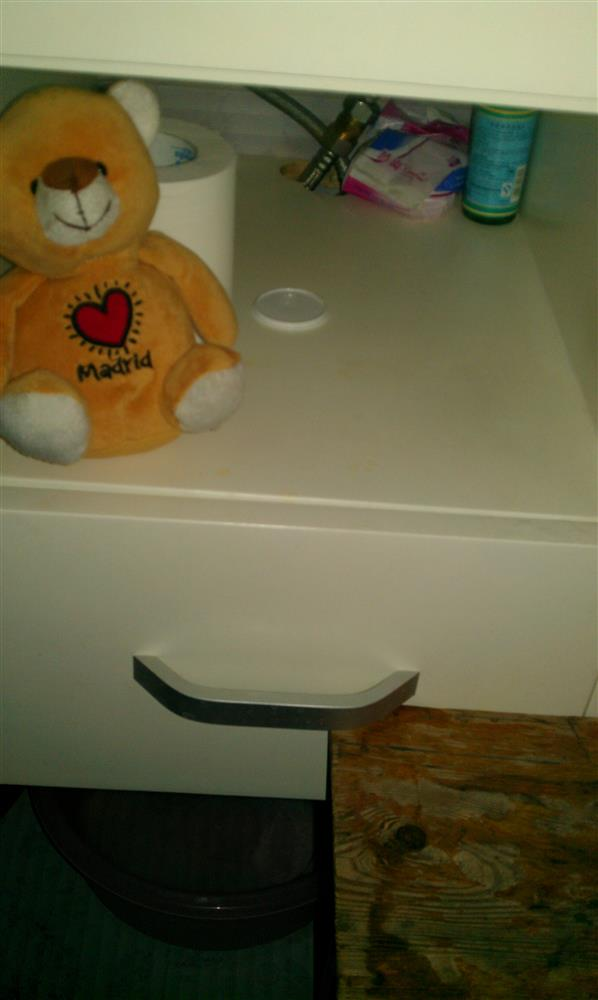madrid_bear: (12, 54, 262, 466)
